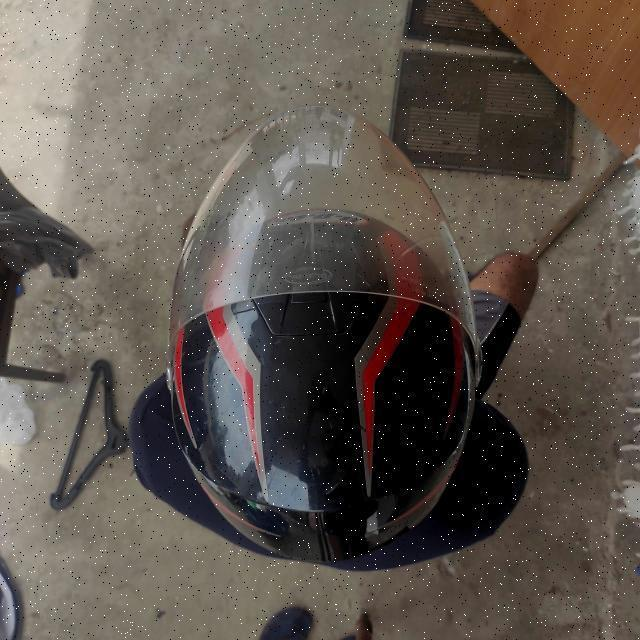helmet: (168, 112, 484, 568)
